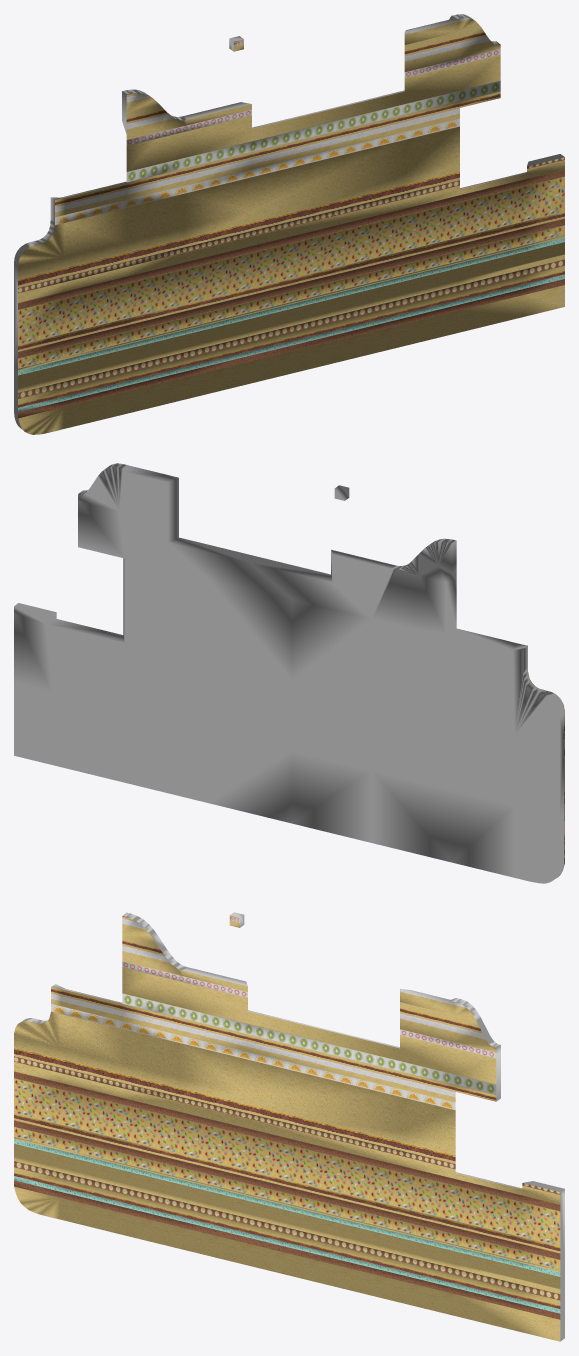
The model's file is stg210_drill_10.obj.
3 views of the same model, one above another, from view 1: azimuth 30°, elevation 25°; view 2: azimuth 150°, elevation 25°; view 3: azimuth 330°, elevation 25° (orthographic).
Parts seen in each view (by area): view 1: polygon0, polygon1, polygon2, polygon3; view 2: polygon3; view 3: polygon0, polygon1, polygon2, polygon3.
Part boxes in pixels (<box>): polygon0: <box>18,17,564,434</box>; polygon1: <box>18,40,564,418</box>; polygon2: <box>18,176,564,368</box>; polygon3: <box>14,14,564,429</box>; polygon3: <box>14,463,564,883</box>; polygon0: <box>14,915,560,1341</box>; polygon1: <box>14,917,560,1319</box>; polygon2: <box>14,1078,560,1269</box>; polygon3: <box>22,912,564,1341</box>.
Size of the model in its own units: 1722 by 1040 by 25.
